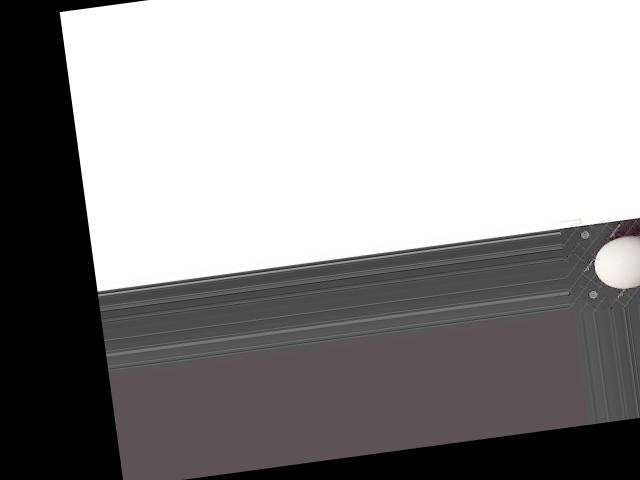egg: (590, 231, 640, 292)
